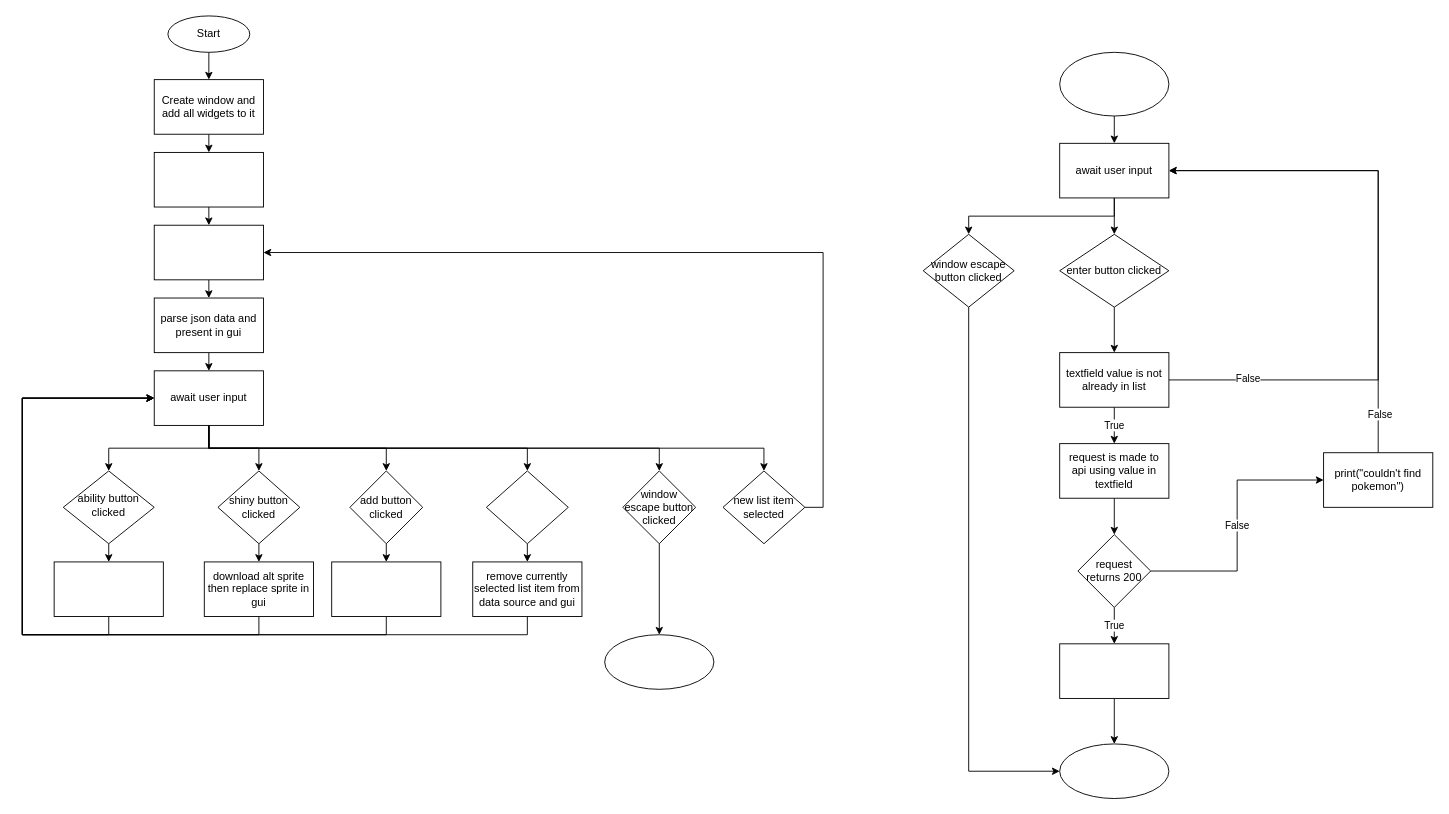
The diagram is 1449 pixels wide and 814 high, and some of its shapes have lost their labels. The centre of each missing label's shape, as x and y in pixels:
append textfield value to list and data source: the point at 1114,670
change label to display ability info: the point at 108,589
close all windows and terminate: the point at 659,661
create a get request for api using the list item value: the point at 208,252
delete button clicked: the point at 526,507
hide popup menu: the point at 1114,771
popup menu shows: the point at 1114,83
Select list item 0: the point at 208,179
show popup menu: the point at 386,589
